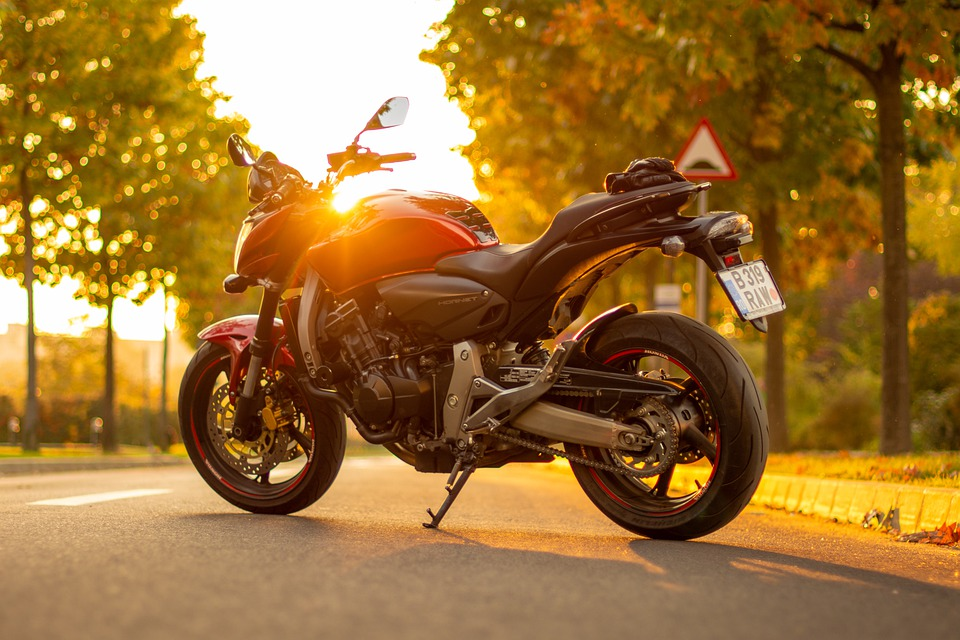motorcycle: (179, 148, 778, 543)
